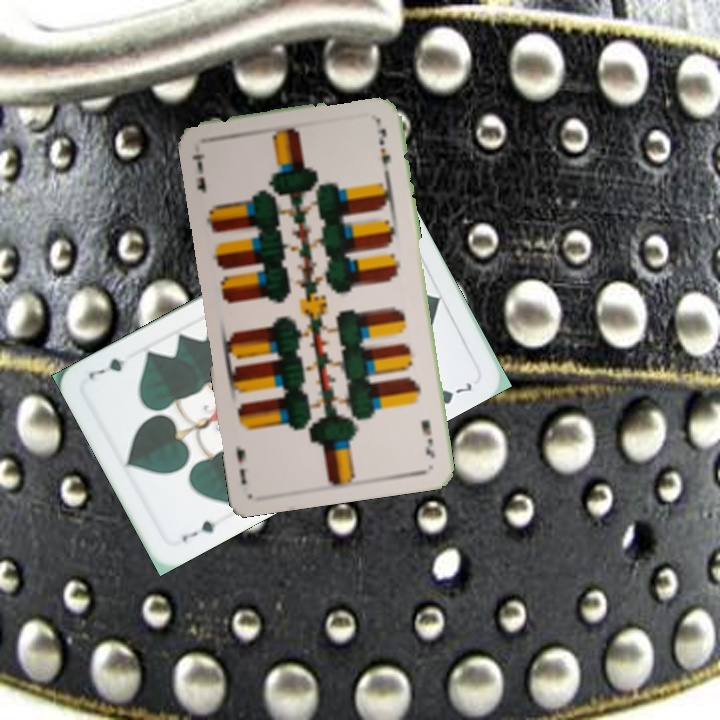E7: (188, 150, 209, 196), (417, 416, 437, 461)
G7: (178, 516, 219, 545)
